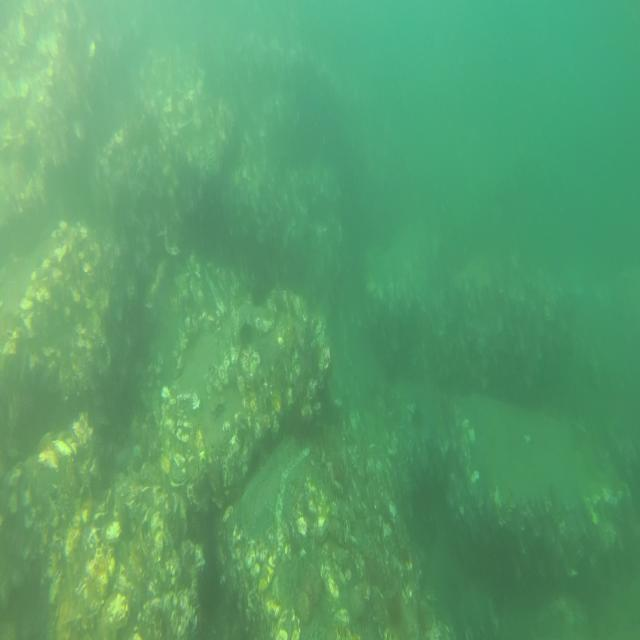echinus: (192, 562, 222, 619), (238, 320, 254, 345)
